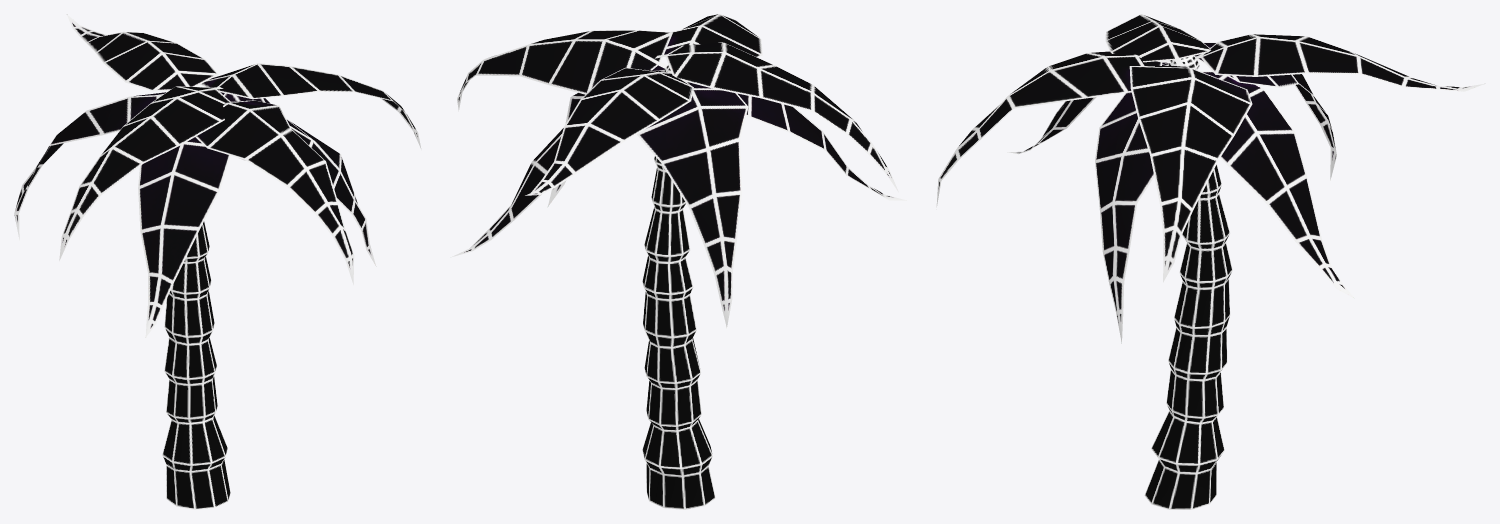
Rendered from palm-BwHia5dz.glb.
3 renders of one model, left to right at view 1: azimuth 30°, elevation 25°; view 2: azimuth 150°, elevation 25°; view 3: azimuth 270°, elevation 25°, orthographic. The views are drawn at different scales.
Parts seen in each view (by area): view 1: trunk, fronds_5, fronds_2, fronds_1, fronds_8, fronds_6, fronds_4, fronds_7; view 2: trunk, fronds_4, fronds_8, fronds_6, fronds_1, fronds_5, fronds_2, fronds_3; view 3: trunk, fronds_6, fronds_3, fronds_7, fronds_8, fronds_2, fronds_1, fronds_4, fronds_5.
Part boxes in pixels (box(x1,y1,x2,y2)): trunk: box(162, 221, 230, 509); fronds_5: box(138, 137, 230, 337); fronds_2: box(195, 100, 354, 284); fronds_1: box(59, 86, 230, 260); fronds_8: box(67, 14, 218, 91); fronds_6: box(200, 63, 421, 149); fronds_4: box(14, 92, 165, 239); fronds_7: box(224, 93, 376, 266); trunk: box(642, 65, 715, 509); fronds_4: box(637, 81, 748, 327); fronds_8: box(525, 67, 693, 195); fronds_6: box(457, 30, 672, 111); fronds_1: box(655, 42, 898, 192); fronds_5: box(738, 93, 906, 200); fronds_2: box(664, 14, 762, 57); fronds_3: box(451, 127, 563, 257); trunk: box(1144, 55, 1232, 509); fronds_6: box(1129, 65, 1252, 282); fronds_3: box(1199, 71, 1353, 297); fronds_7: box(1095, 92, 1154, 343); fronds_8: box(1195, 34, 1483, 91); fronds_2: box(936, 51, 1170, 209); fronds_1: box(1105, 14, 1210, 66); fronds_4: box(1195, 42, 1336, 180); fronds_5: box(1007, 62, 1168, 154).
Bounding box in the file's own units: 13.57 × 14.02 × 15.22.
2 materials, 2 textured.
